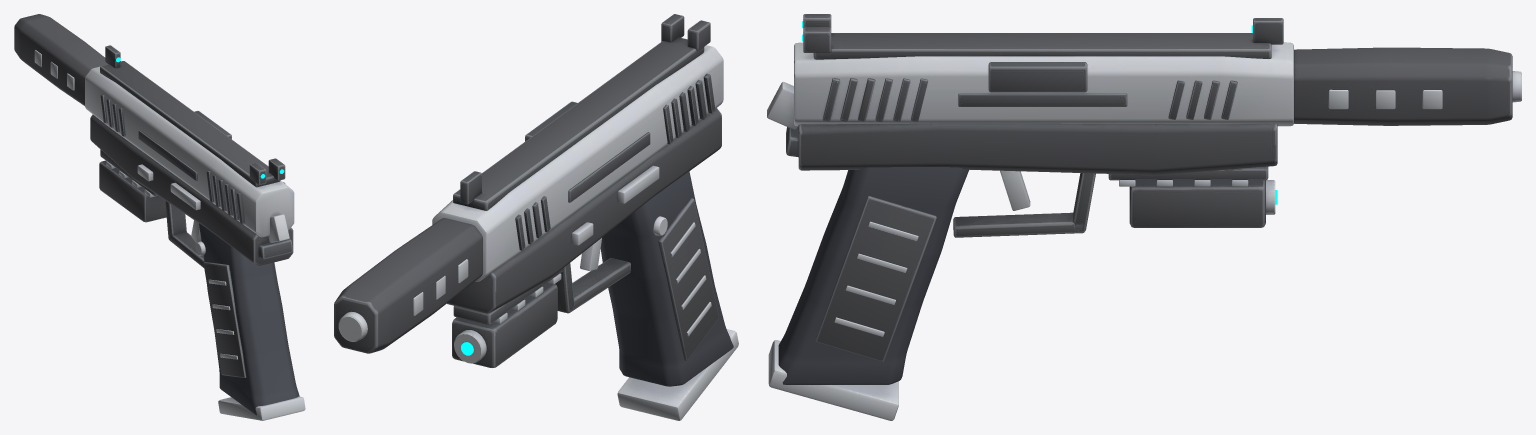
Rendered from pistol_opt.glb.
3 renders of one model, left to right at view 1: azimuth 30°, elevation 25°; view 2: azimuth 150°, elevation 25°; view 3: azimuth 270°, elevation 25°, orthographic. The views are drawn at different scales.
Parts seen in each view (by area): view 1: Pistol_FrameMatteBlack, Pistol_SlideSilver, Pistol_GripPolymer; view 2: Pistol_FrameMatteBlack, Pistol_SlideSilver, Pistol_GripPolymer; view 3: Pistol_FrameMatteBlack, Pistol_SlideSilver, Pistol_GripPolymer.
Boxes of the visible parts, x1,y1,x2,y2 form: Pistol_FrameMatteBlack: (14, 14, 293, 377); Pistol_SlideSilver: (34, 50, 305, 420); Pistol_GripPolymer: (199, 223, 299, 415); Pistol_FrameMatteBlack: (334, 14, 721, 367); Pistol_SlideSilver: (338, 45, 738, 420); Pistol_GripPolymer: (600, 171, 733, 386); Pistol_FrameMatteBlack: (786, 14, 1512, 362); Pistol_SlideSilver: (767, 42, 1521, 420); Pistol_GripPolymer: (778, 167, 968, 384).
Size of the model in its own units: 0.0342 by 0.1696 by 0.3.
Materials: 4 (4 with a texture image).
